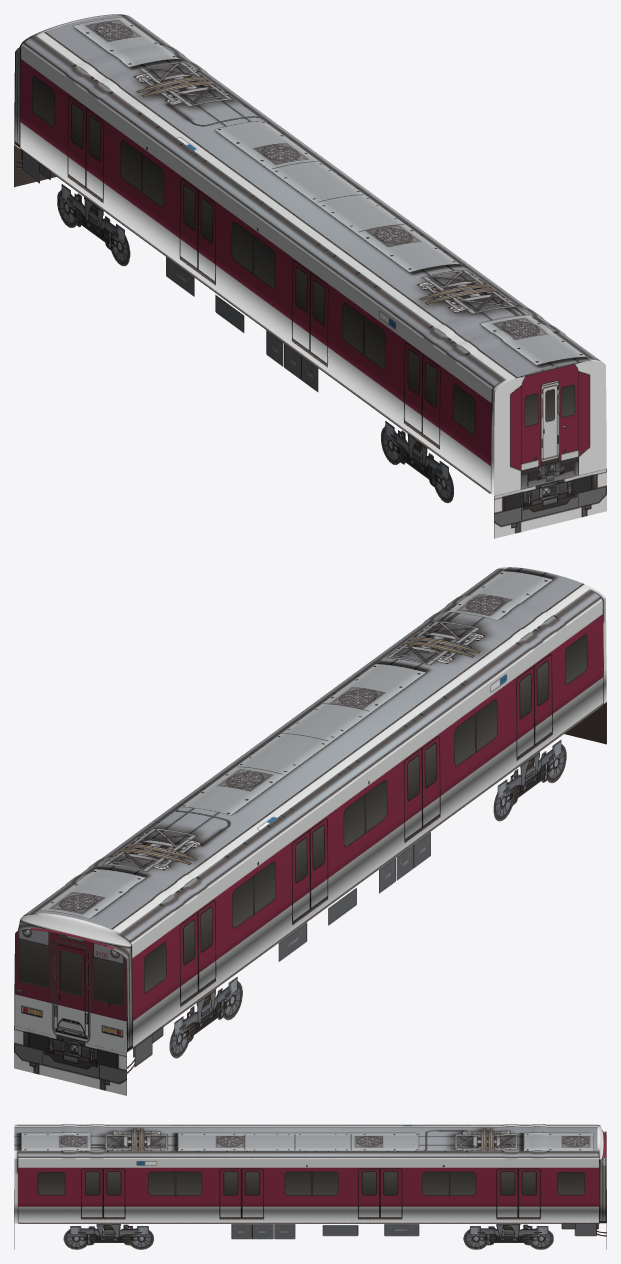
Rendered from car2.glb.
3 views of the same model, one above another, from view 1: azimuth 30°, elevation 25°; view 2: azimuth 150°, elevation 25°; view 3: azimuth 270°, elevation 25° (orthographic). The views are drawn at different scales.
Parts seen in each view (by area): view 1: kintetsu-9000-car2; view 2: kintetsu-9000-car2; view 3: kintetsu-9000-car2.
Boxes of the visible parts, x1,y1,x2,y2 form: kintetsu-9000-car2: (14,14,606,538); kintetsu-9000-car2: (14,567,606,1095); kintetsu-9000-car2: (14,1124,606,1249).
Bounding box in the file's own units: 2.8 × 3.76 × 20.69.
8 materials, 7 textured.
